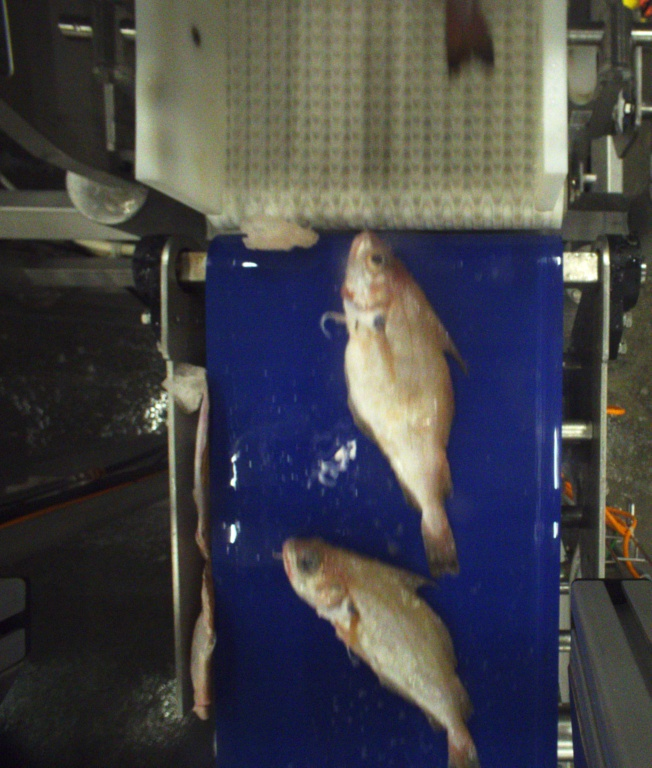BIB: (278, 541, 481, 768)
